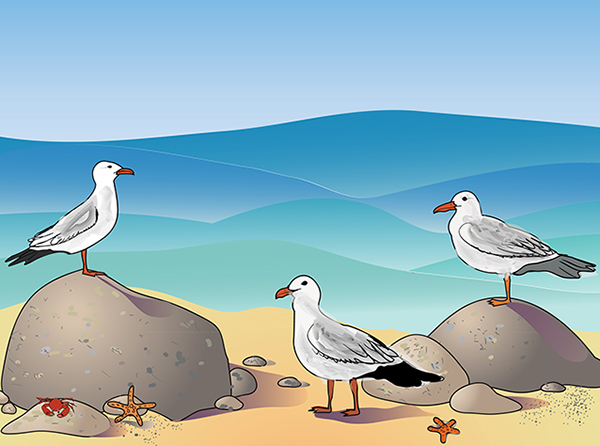bird: (271, 271, 455, 426), (427, 187, 600, 315), (3, 153, 137, 287)
